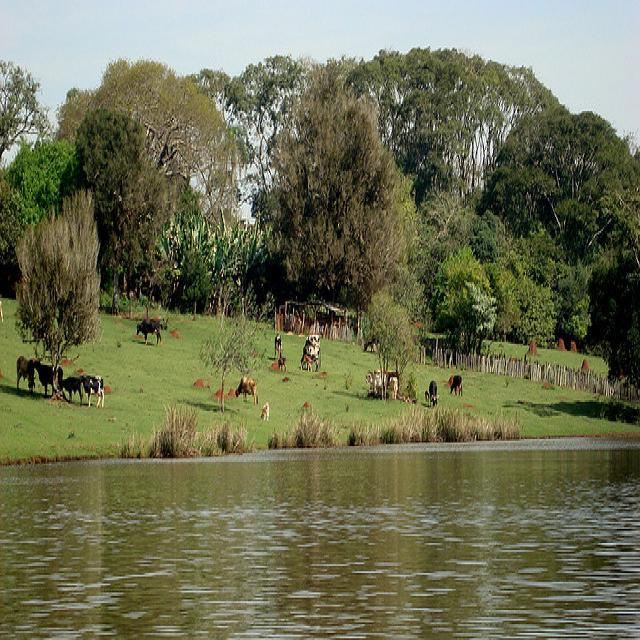cow: (0, 302, 453, 400), (31, 354, 62, 395), (78, 372, 103, 406), (234, 370, 258, 404), (134, 316, 162, 344), (299, 335, 321, 370), (14, 354, 34, 390), (59, 374, 82, 402), (364, 371, 382, 399), (449, 372, 461, 393), (427, 378, 436, 406), (259, 399, 268, 420), (277, 355, 285, 371), (268, 360, 279, 369)
